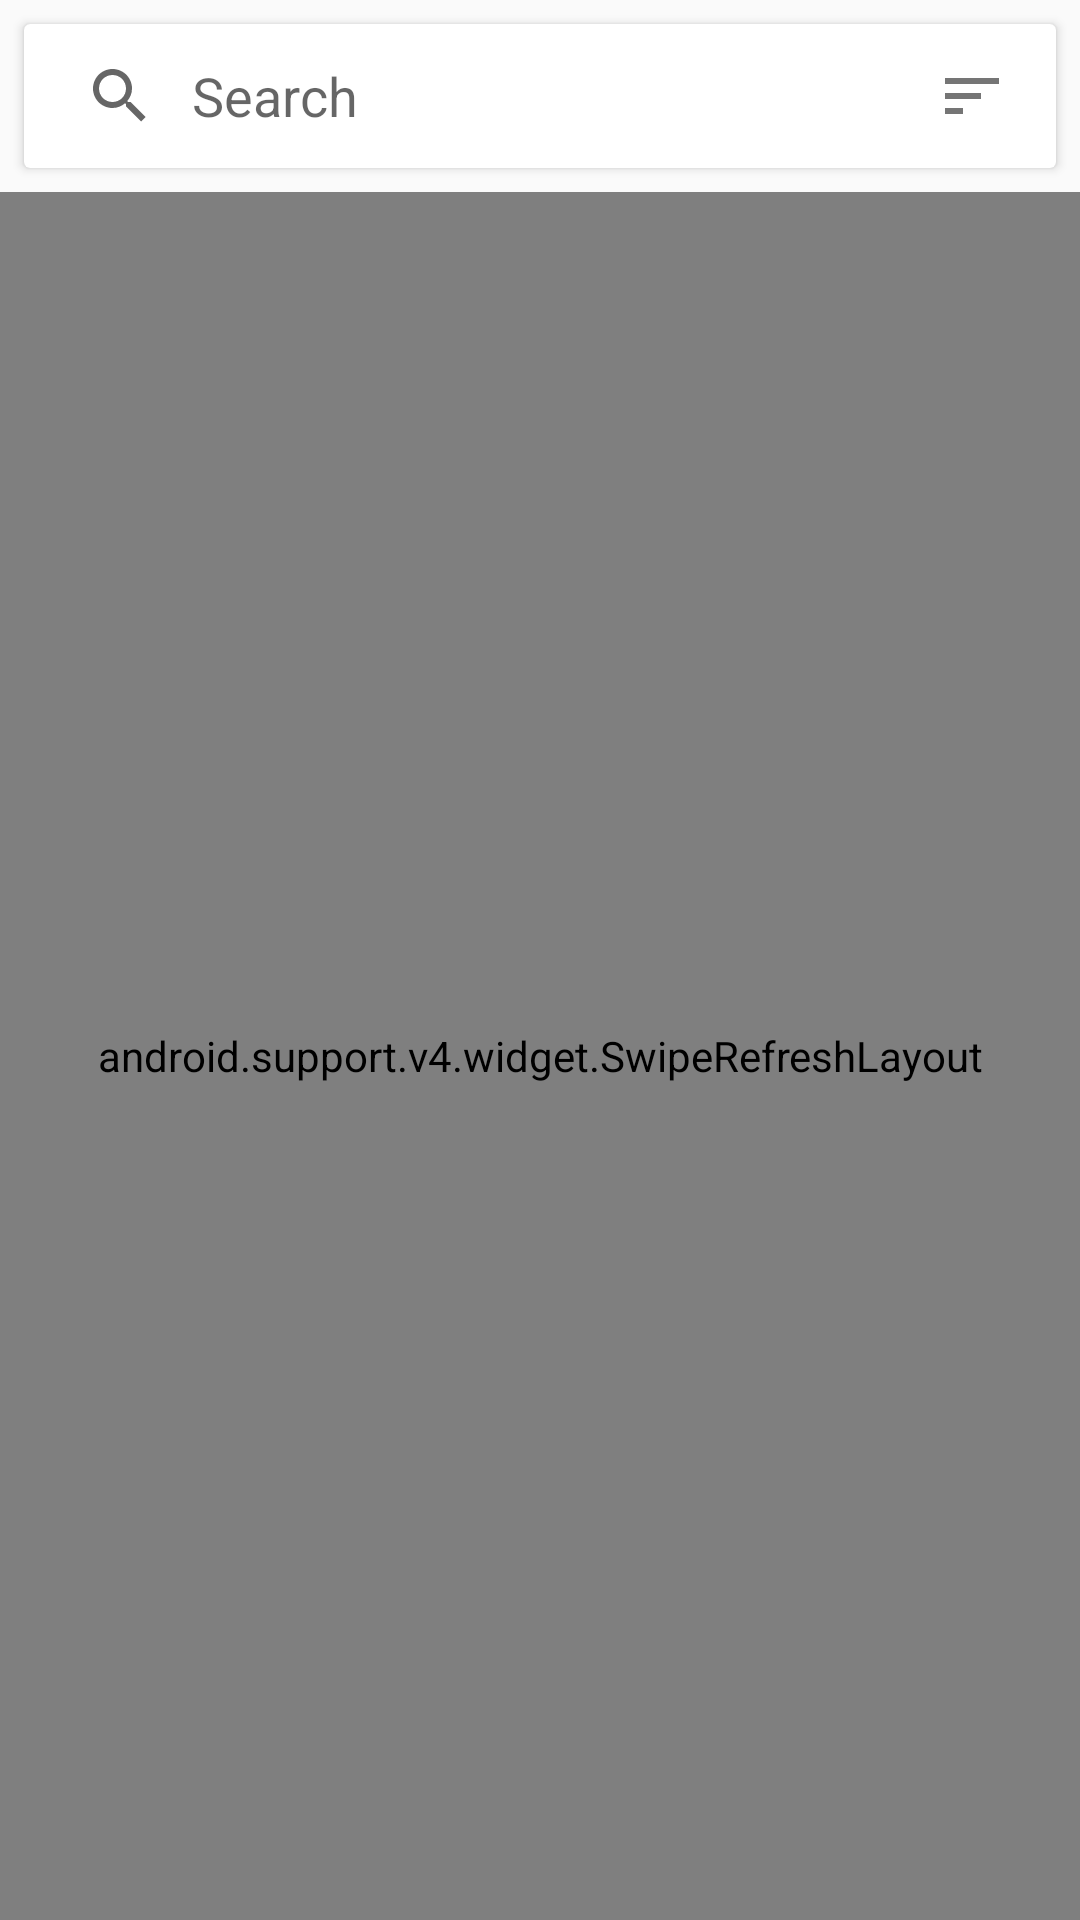

Icons on this 1080×1920 Android screen, each with the point to tap as (x=x, y=y):
Sort: (x=972, y=96)
